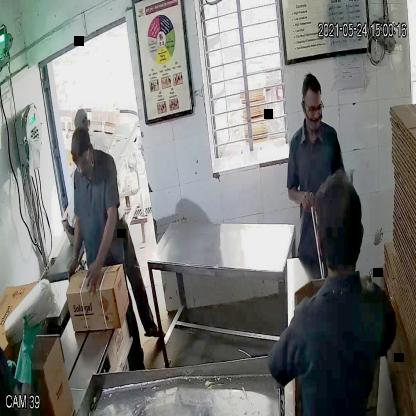goggles: (298, 96, 328, 120)
